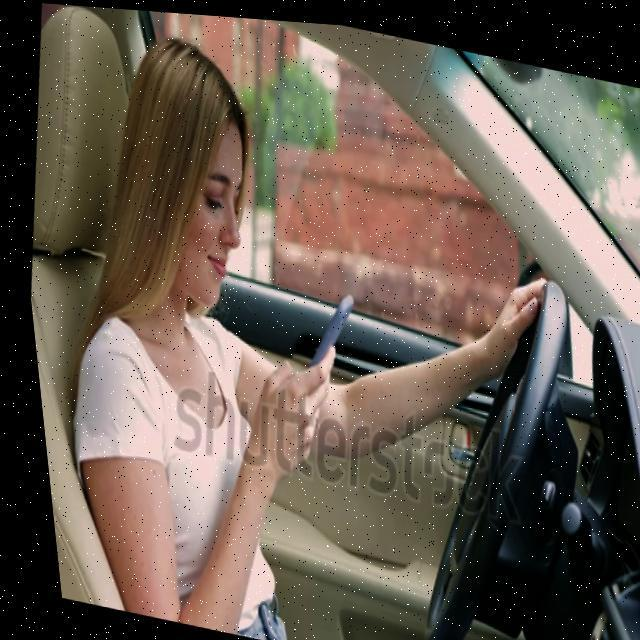PhoneCall: (286, 278, 356, 398)
